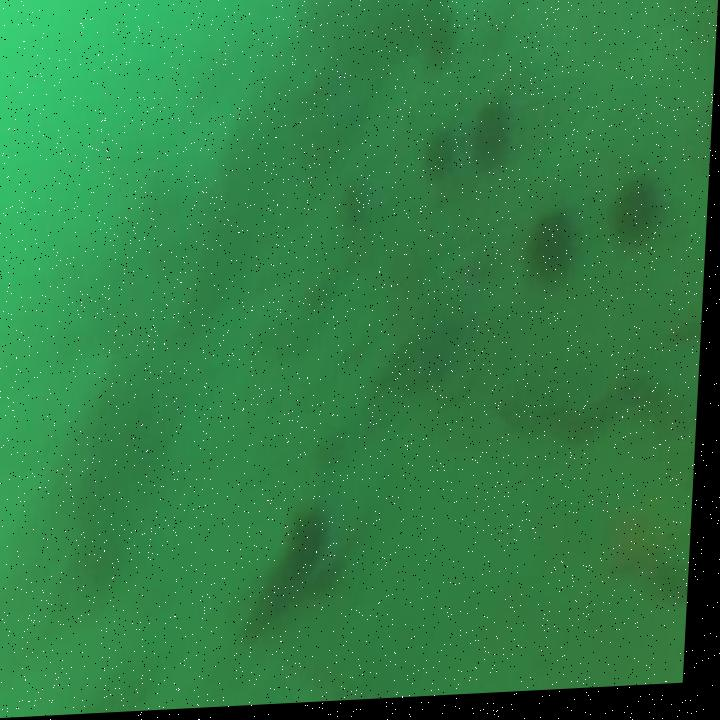echinus: (606, 179, 672, 268), (526, 204, 586, 298), (287, 497, 339, 585), (472, 102, 520, 181), (422, 122, 459, 194), (421, 8, 458, 80)
